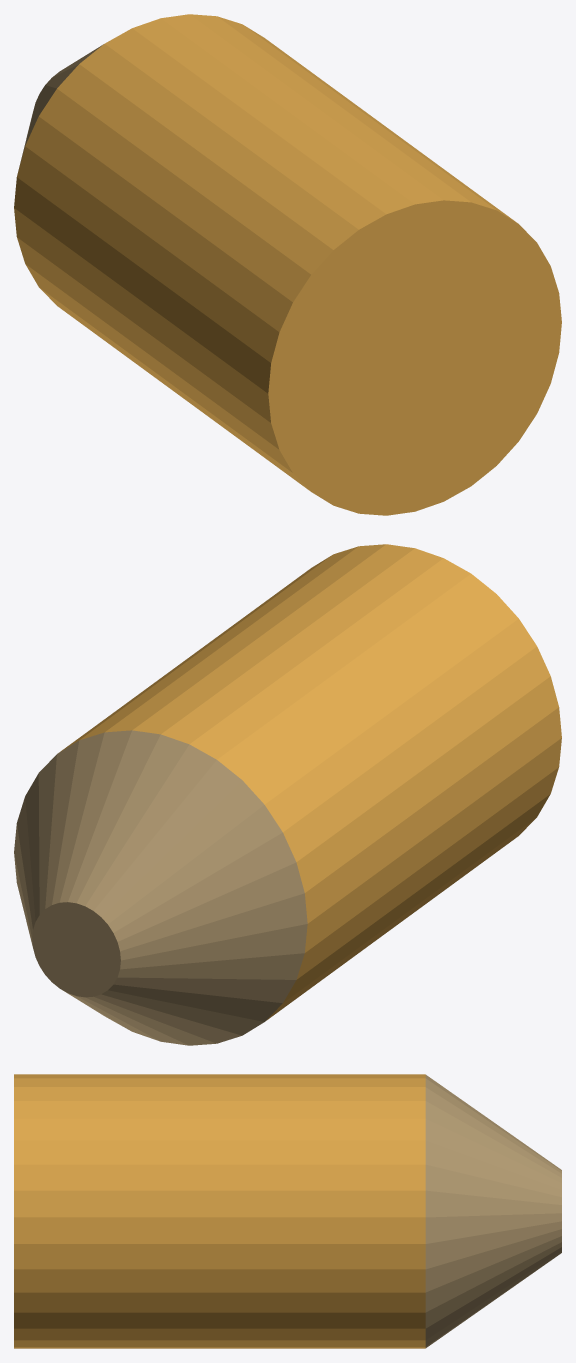
File: bullet.obj
3 views of the same model, one above another, from view 1: azimuth 30°, elevation 25°; view 2: azimuth 150°, elevation 25°; view 3: azimuth 270°, elevation 25° (orthographic). The views are drawn at different scales.
Visible parts, largest first — view 1: bullet; view 2: bullet; view 3: bullet.
Part boxes in pixels (<box>): bullet: <box>14,14,561,515</box>; bullet: <box>14,544,561,1045</box>; bullet: <box>14,1074,561,1348</box>.
Bounding box in the file's own units: 0.2 × 0.2 × 0.3994.
1 material, 1 textured.
